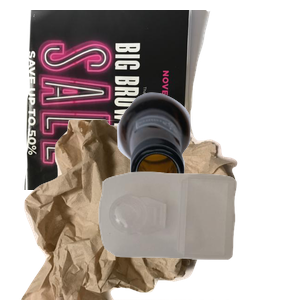glass: (115, 90, 300, 270)
paper: (22, 10, 225, 190)
plastic: (96, 169, 300, 300)
trash: (19, 120, 249, 300)
